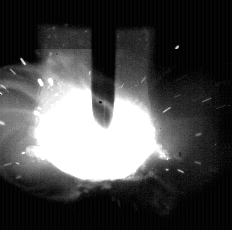arame: (92, 0, 115, 129)
poca: (33, 0, 157, 230)
